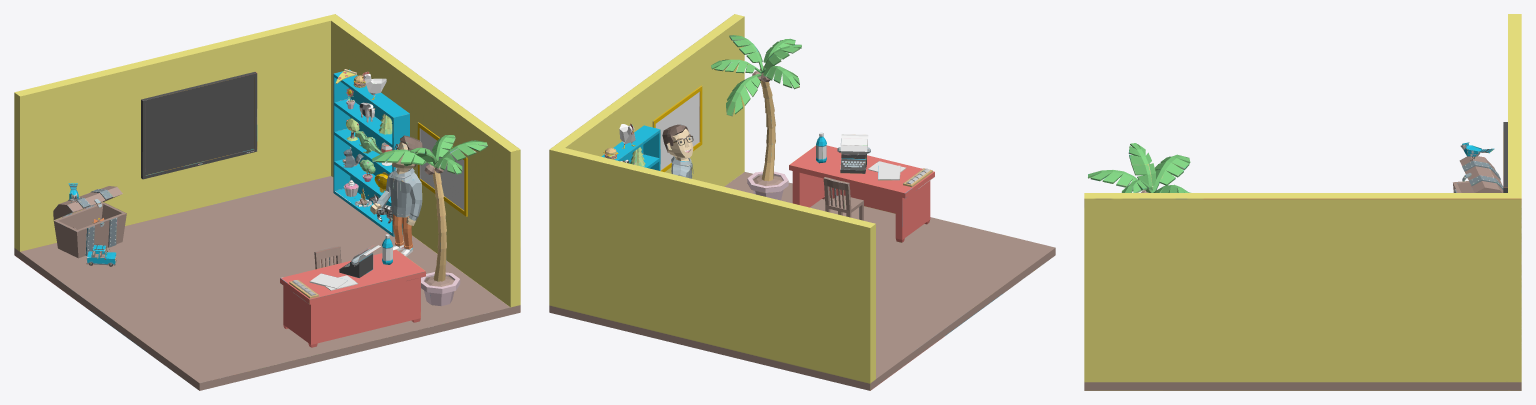
The model's file is newMat.obj.
The picture shows the model from 3 angles, left to right: view 1: azimuth 30°, elevation 25°; view 2: azimuth 150°, elevation 25°; view 3: azimuth 270°, elevation 25°; orthographic projection. The views are drawn at different scales.
Visible parts, largest first — view 1: Bush_01_Icosphere.001; view 2: Bush_01_Icosphere.001; view 3: Bush_01_Icosphere.001.
Boxes of the visible parts, bbox=[...] form: Bush_01_Icosphere.001: bbox=[14, 14, 520, 390]; Bush_01_Icosphere.001: bbox=[549, 14, 1055, 390]; Bush_01_Icosphere.001: bbox=[1084, 14, 1521, 390].
Size of the model in its own units: 15.49 by 7.72 by 15.49.
Materials: 95 (95 with a texture image).
